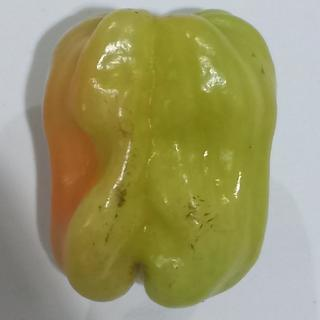Defect: (106, 172, 137, 220)
